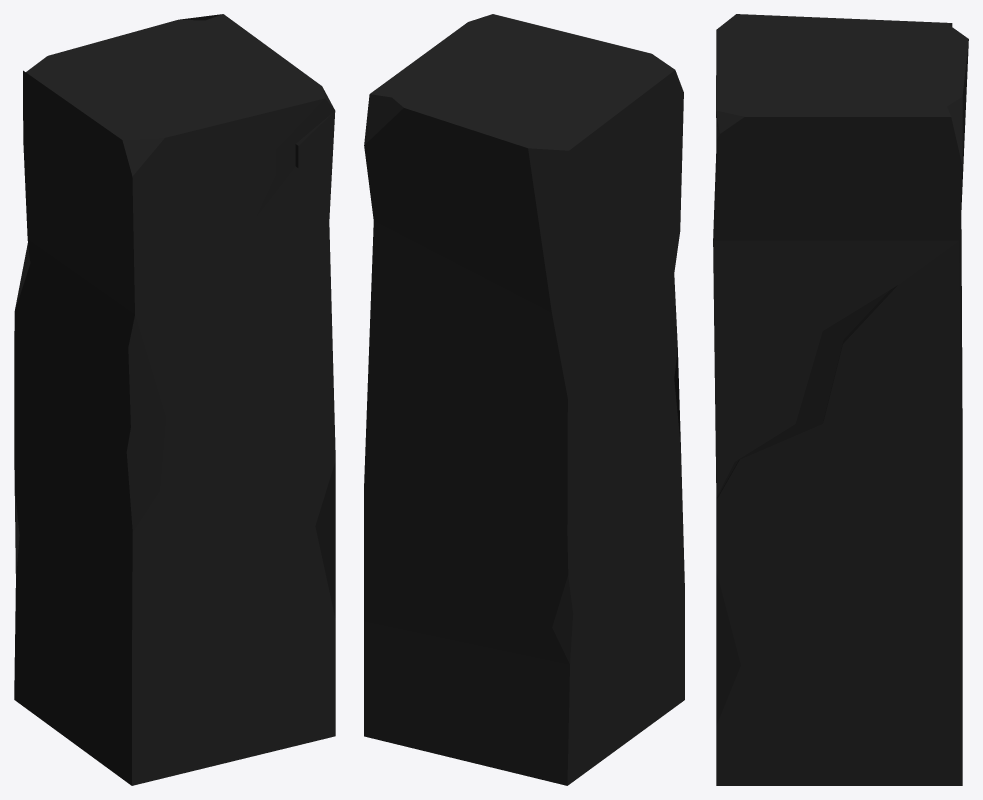
Rendered from pillar_with_crack.gltf.
The picture shows the model from 3 angles, left to right: view 1: azimuth 30°, elevation 25°; view 2: azimuth 150°, elevation 25°; view 3: azimuth 270°, elevation 25°; orthographic projection. The views are drawn at different scales.
Parts seen in each view (by area): view 1: Cube; view 2: Cube; view 3: Cube.
Boxes of the visible parts, x1,y1,x2,y2 form: Cube: [14, 14, 335, 785]; Cube: [364, 14, 684, 785]; Cube: [713, 14, 968, 785].
Size of the model in its own units: 1.02 by 3 by 1.04.
1 material, 1 textured.
